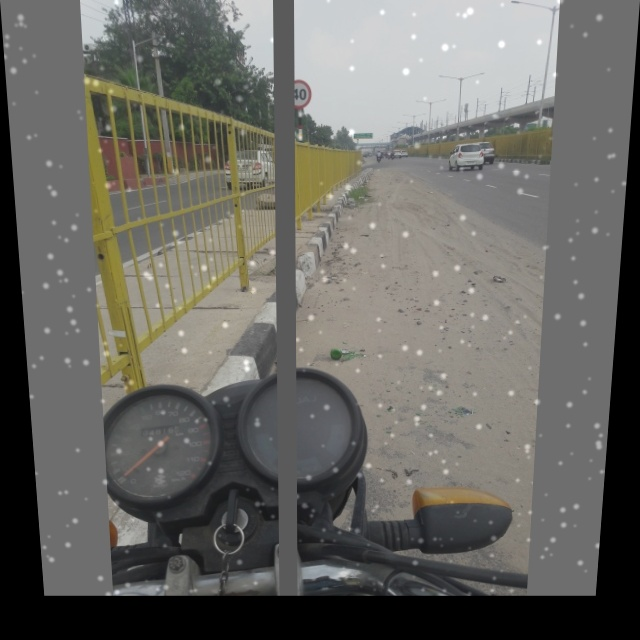Speed_Limit_40: (281, 76, 317, 112)
